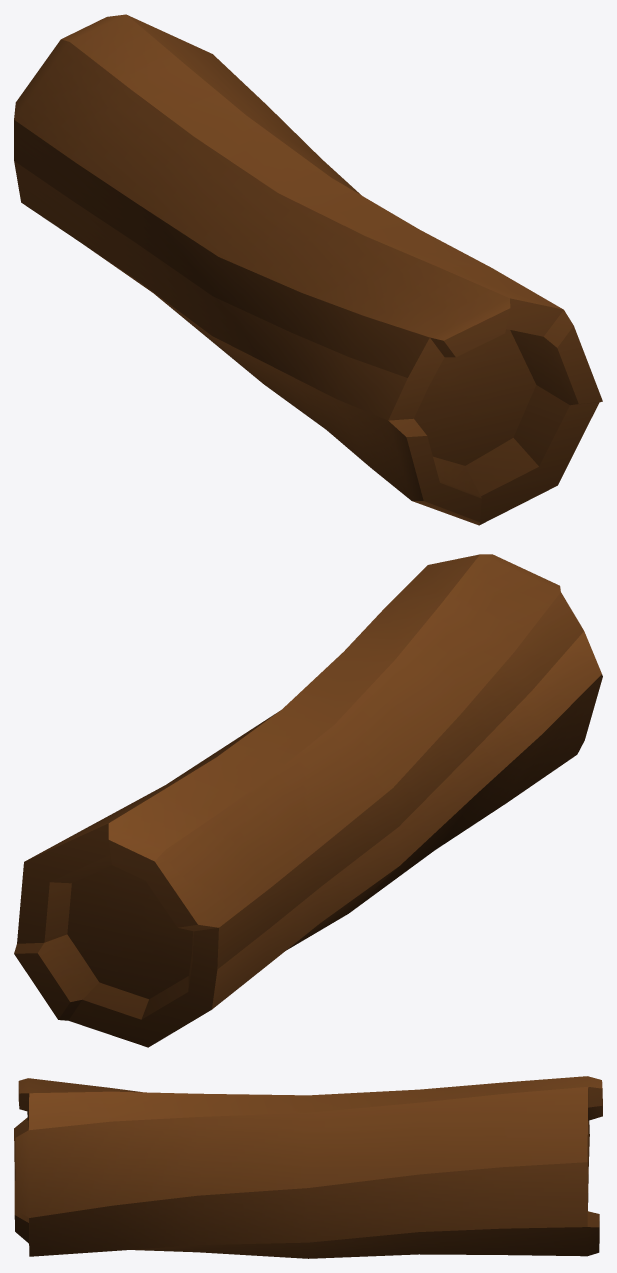
Rendered from Stump-4.fbx.
3 renders of one model, top to bottom at view 1: azimuth 30°, elevation 25°; view 2: azimuth 150°, elevation 25°; view 3: azimuth 270°, elevation 25°, orthographic. The views are drawn at different scales.
Parts seen in each view (by area): view 1: Stump-4; view 2: Stump-4; view 3: Stump-4.
Part boxes in pixels (<box>): Stump-4: <box>14,14,602,525</box>; Stump-4: <box>14,554,602,1047</box>; Stump-4: <box>14,1076,602,1258</box>.
Bounding box in the file's own units: 197 × 201 × 643.
